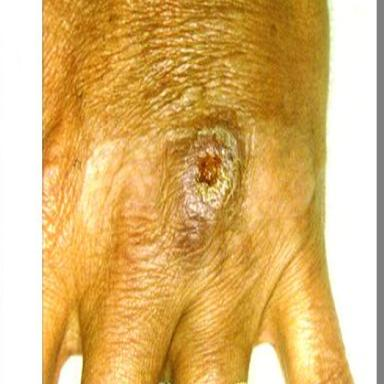Leishmanios: (183, 126, 239, 220)
